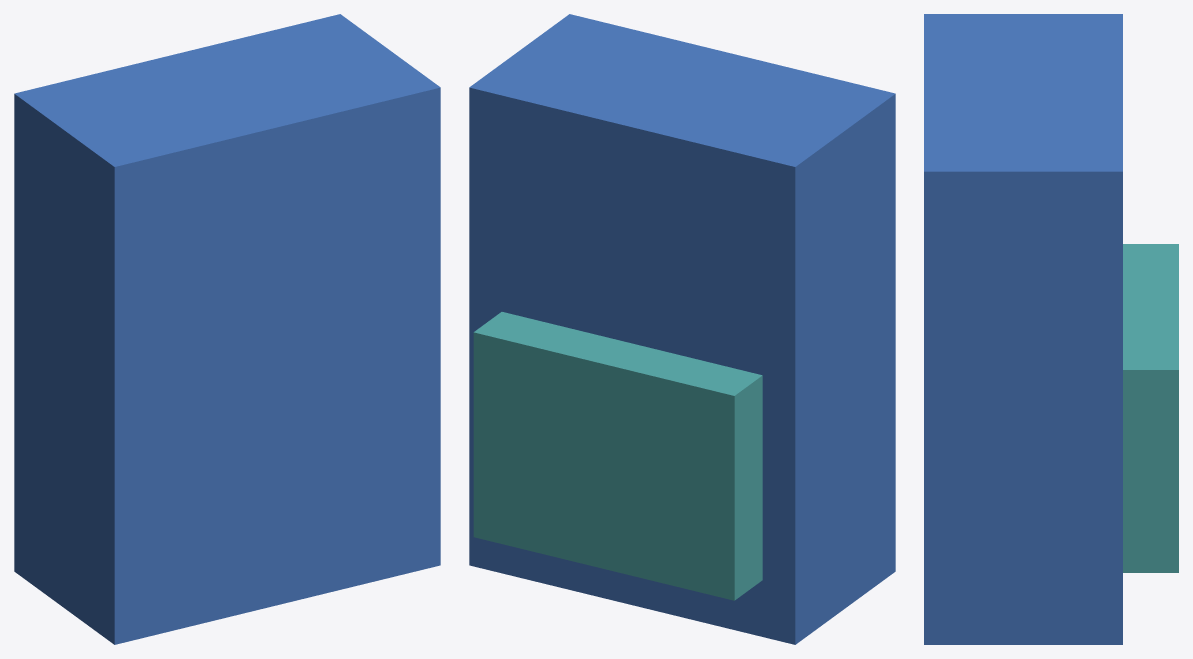
The model's file is sm_product_backpack.glb.
The picture shows the model from 3 angles, left to right: view 1: azimuth 30°, elevation 25°; view 2: azimuth 150°, elevation 25°; view 3: azimuth 270°, elevation 25°; orthographic projection.
Parts seen in each view (by area): view 1: backpack_0; view 2: backpack_0, backpack_1; view 3: backpack_0, backpack_1.
Part boxes in pixels (<box>): backpack_0: <box>14,14,440,644</box>; backpack_0: <box>469,14,895,644</box>; backpack_1: <box>473,312,762,600</box>; backpack_0: <box>924,14,1122,644</box>; backpack_1: <box>1123,244,1178,572</box>.
Size of what is drawn, in the model's own units: 0.3 by 0.42 by 0.205.
